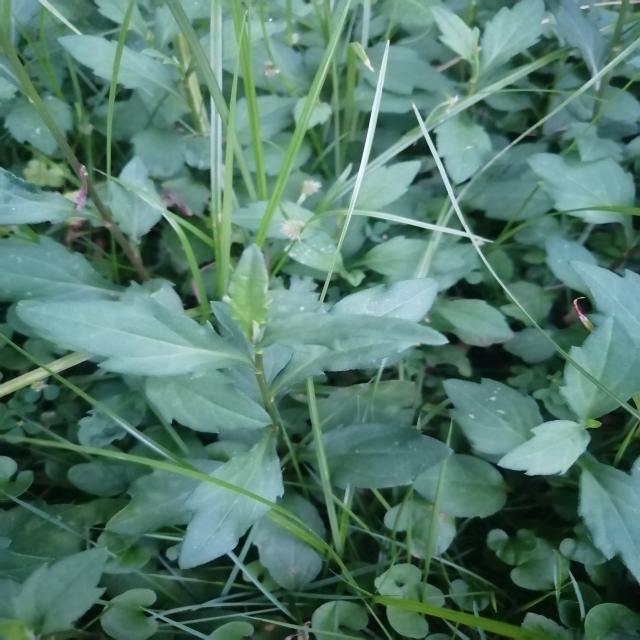Indian aster: (70, 260, 432, 526)
